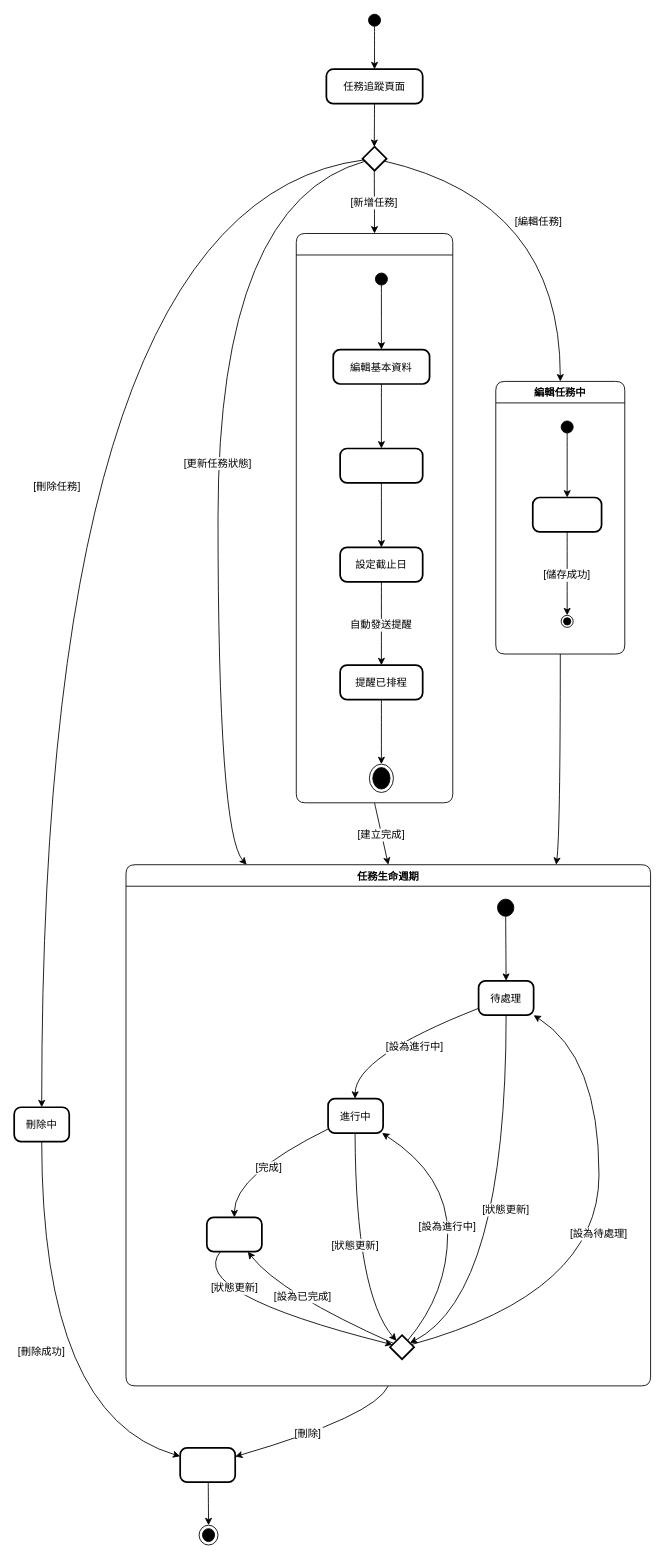
Some shapes in this 665 by 1559 pixel diagram are drawn without their labels. The shapes that lost their labels are listed below. From the top down, each one's box as (x1, y1, x2, y2) in pixels, then its label:
(339, 447, 423, 483): 指派負責人
(295, 233, 453, 803): 建立任務中
(531, 496, 602, 532): 修改欄位
(206, 1216, 262, 1252): 已完成
(179, 1447, 236, 1483): 已刪除
